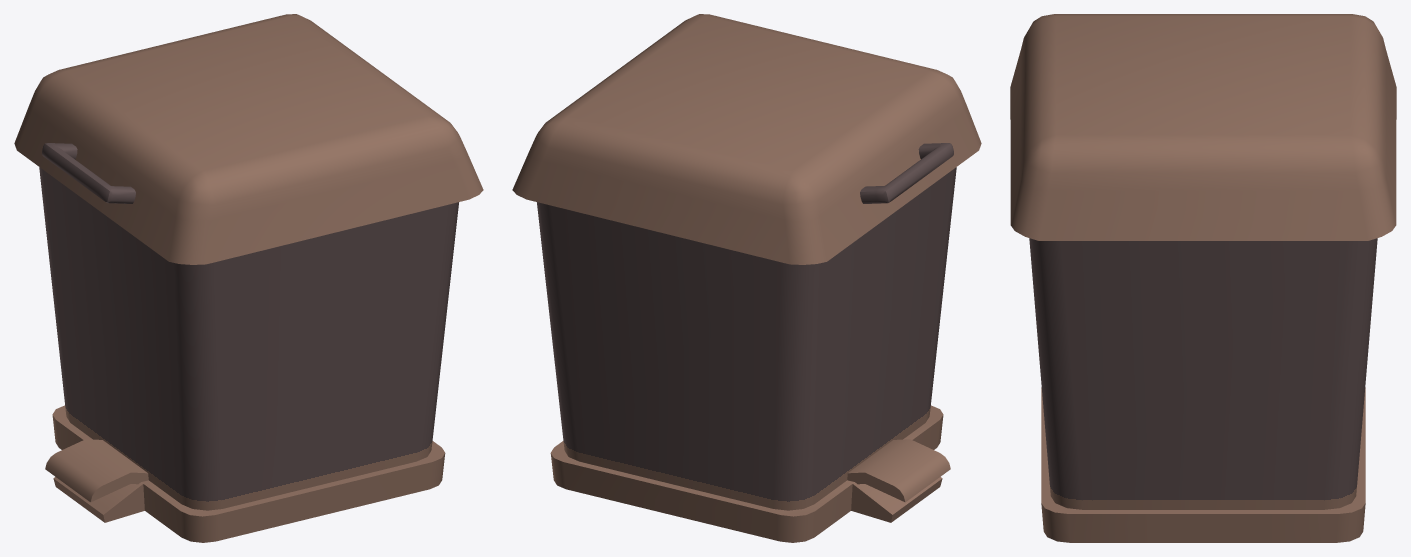
The model's file is cesto_org.fbx.
3 renders of one model, left to right at view 1: azimuth 30°, elevation 25°; view 2: azimuth 150°, elevation 25°; view 3: azimuth 270°, elevation 25°, orthographic. The views are drawn at different scales.
Visible parts, largest first — view 1: cesto_org.001, cesto_orgtapa.001; view 2: cesto_org.001, cesto_orgtapa.001; view 3: cesto_org.001, cesto_orgtapa.001.
Boxes of the visible parts, <box> form: cesto_org.001: <box>39,167,458,542</box>; cesto_orgtapa.001: <box>14,14,483,264</box>; cesto_org.001: <box>537,167,956,542</box>; cesto_orgtapa.001: <box>512,14,981,264</box>; cesto_org.001: <box>1029,238,1377,542</box>; cesto_orgtapa.001: <box>1010,14,1396,240</box>.
Bounding box in the file's own units: 158 × 166 × 145.
